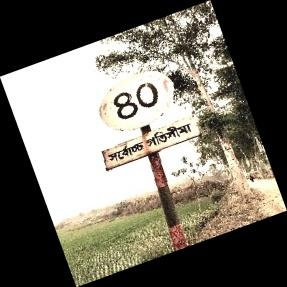Speed-limit: (98, 69, 200, 172)
